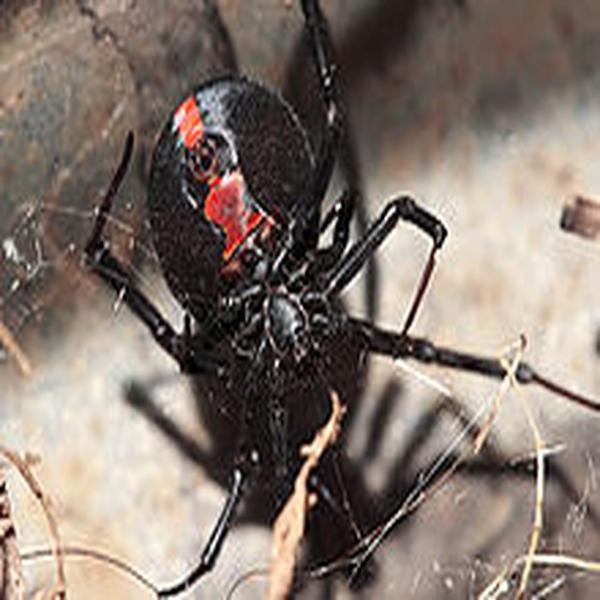Redback Spider: (90, 11, 526, 555)
